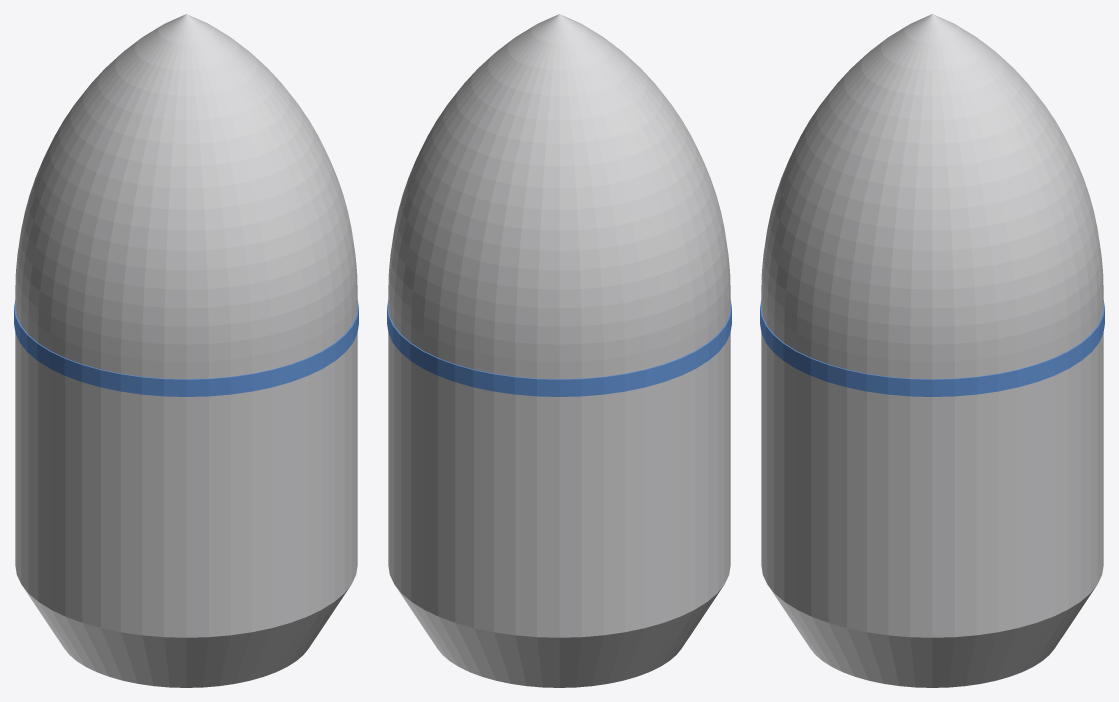
The model's file is nose_fairing.glb.
The picture shows the model from 3 angles, left to right: view 1: azimuth 30°, elevation 25°; view 2: azimuth 150°, elevation 25°; view 3: azimuth 270°, elevation 25°; orthographic projection.
Visible parts, largest first — view 1: nose_fairing_0, nose_fairing_1; view 2: nose_fairing_0, nose_fairing_1; view 3: nose_fairing_0, nose_fairing_1.
Part boxes in pixels (<box>): nose_fairing_0: <box>15,14,357,687</box>; nose_fairing_1: <box>14,300,358,396</box>; nose_fairing_0: <box>388,14,730,687</box>; nose_fairing_1: <box>387,300,731,396</box>; nose_fairing_0: <box>761,14,1103,687</box>; nose_fairing_1: <box>760,300,1104,396</box>.
Bounding box in the file's own units: 2.72 × 5.4 × 2.72.
